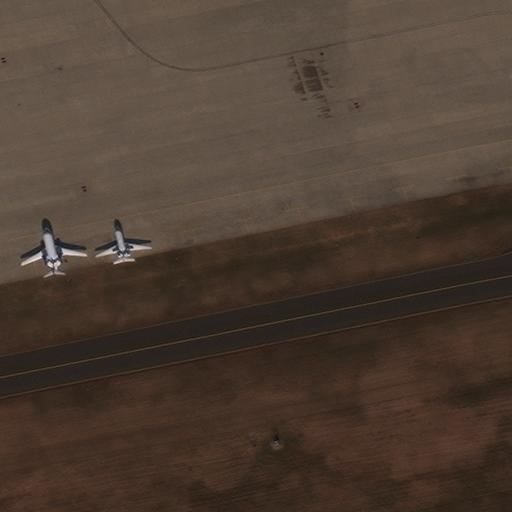Medium Civil Transport: (20, 228, 87, 275), (95, 226, 151, 261)
